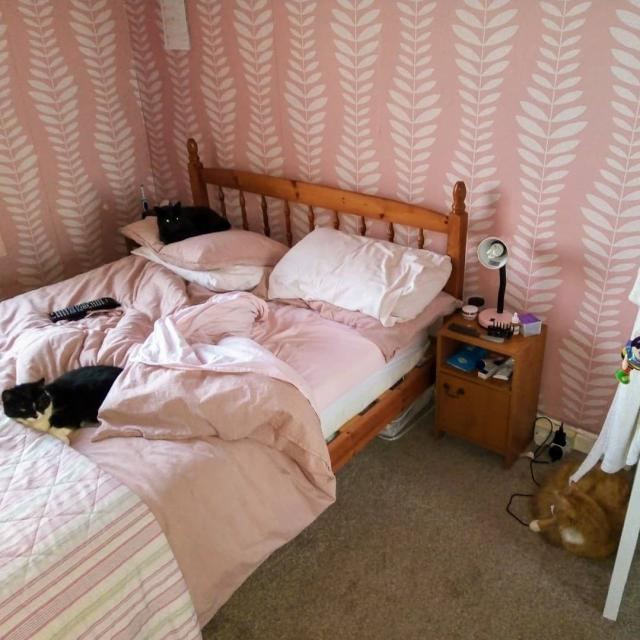bed: (0, 212, 466, 559)
